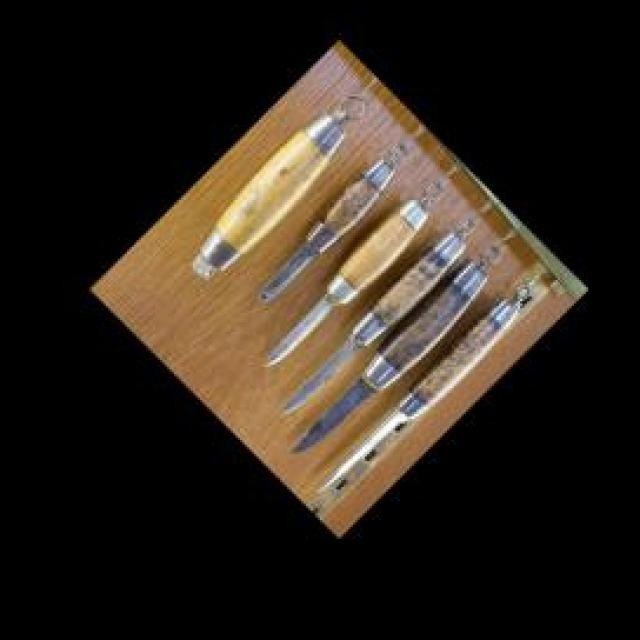knife: (306, 282, 536, 502), (296, 240, 500, 452), (268, 188, 438, 366), (256, 155, 400, 305), (445, 118, 446, 180)
